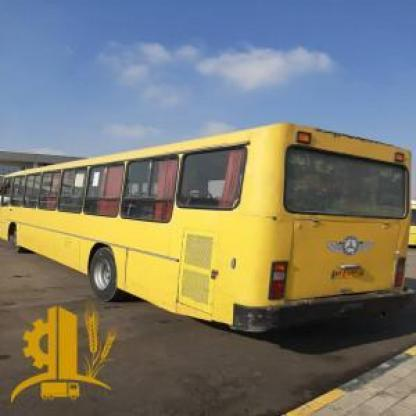Bus: (0, 118, 416, 347)
